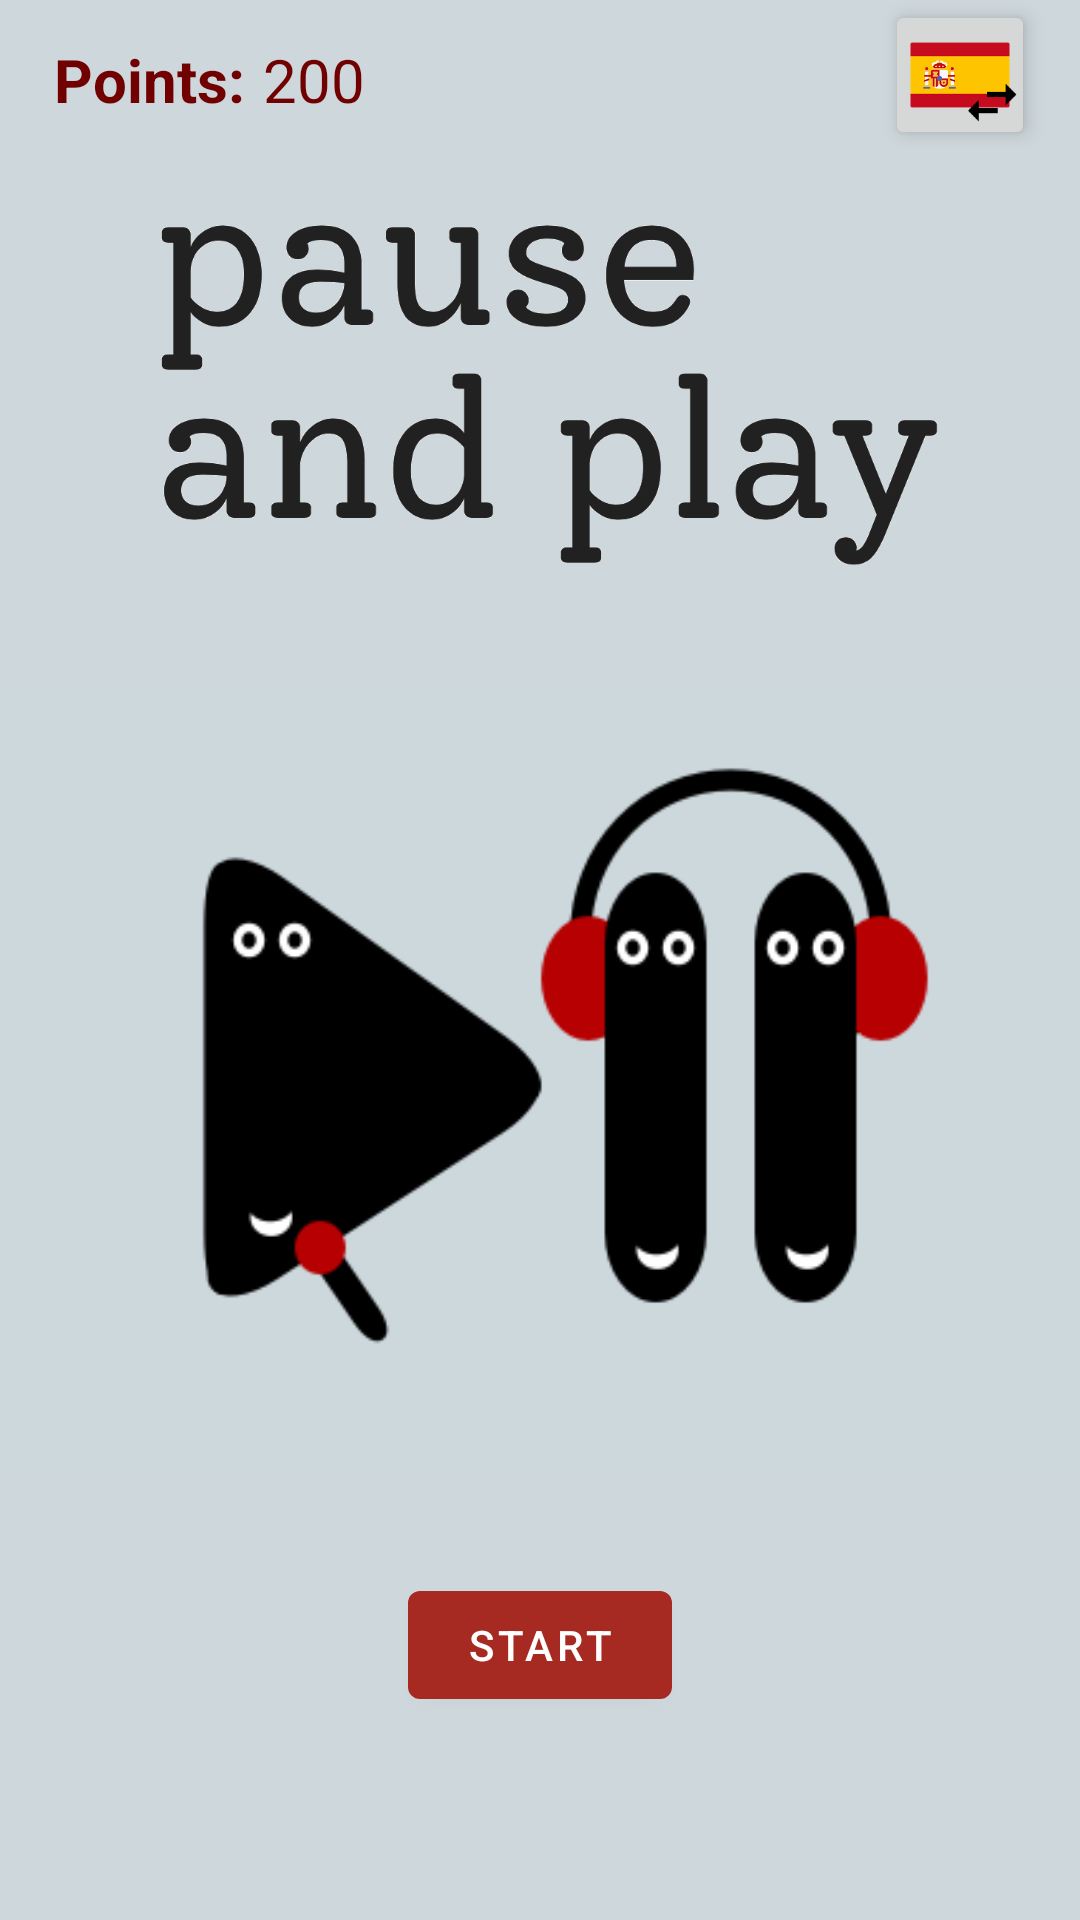

Named icons in this screenshot (1080 × 1920) and their bounding boxes, (x1, y1, x2, y2):
spain flag: (910, 27, 1024, 124)
